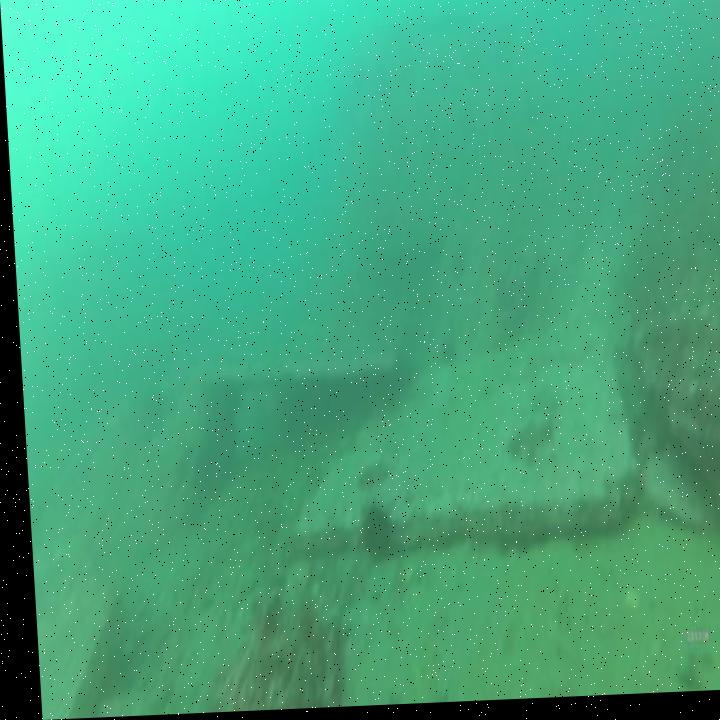echinus: (348, 494, 393, 574)
